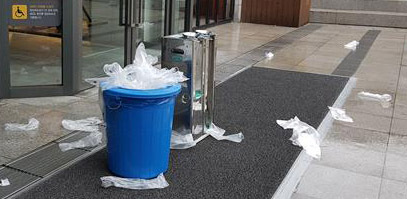plastic_bag: (275, 114, 322, 164), (94, 172, 173, 192), (55, 130, 106, 153), (61, 114, 103, 134), (325, 103, 358, 127), (1, 115, 45, 133), (356, 87, 397, 106), (341, 34, 362, 56), (261, 47, 280, 70), (1, 173, 15, 191)
